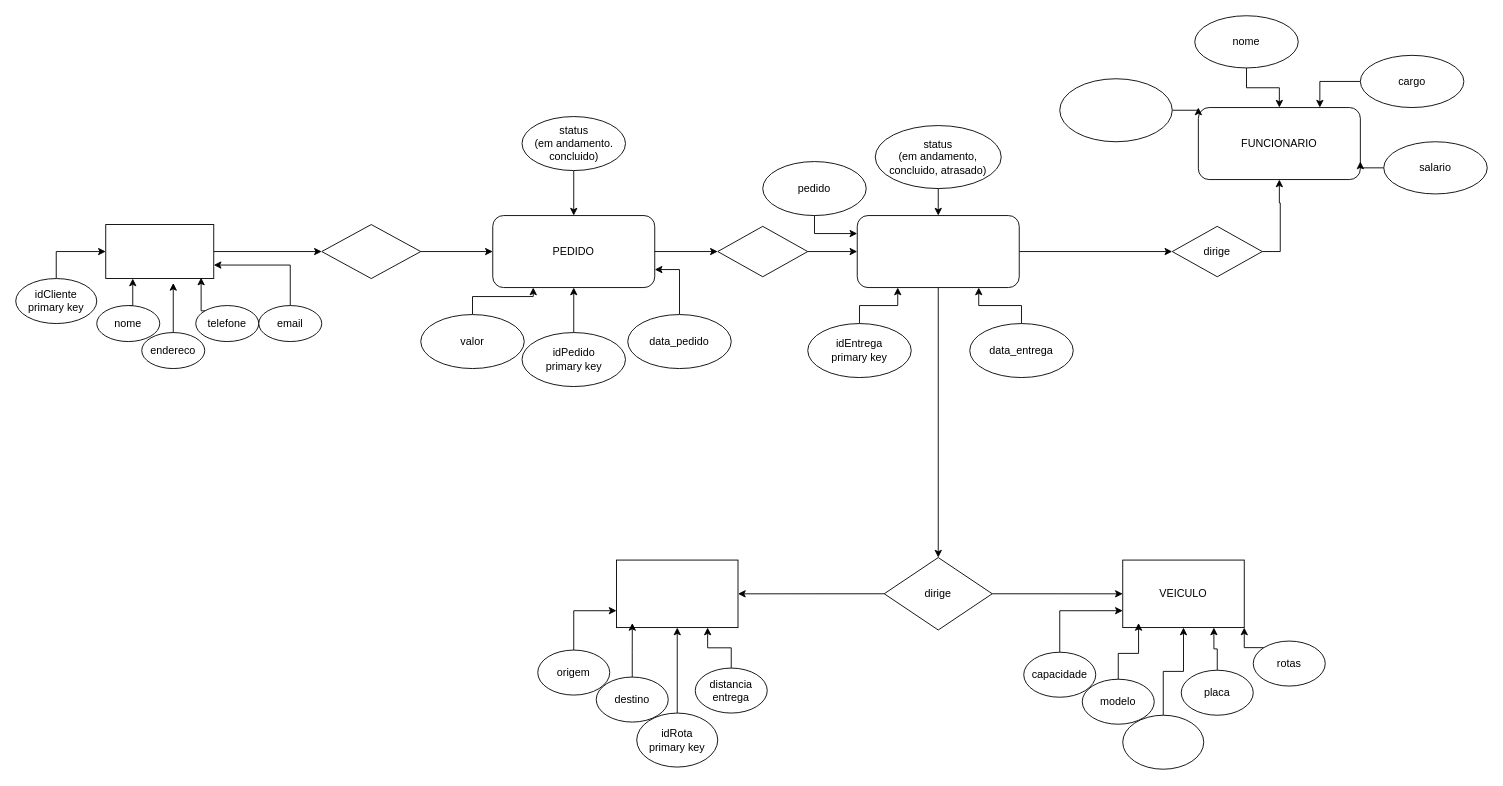
Image size: 1503x786. Some labels were removed from this diagram. The centre of each missing label's shape, as x and y in pixels:
CLIENTE: point 159,251
efetua: point 371,251
ENTREGA: point 937,251
idFuncionario primary key: point 1115,110
idVeiculo primary key: point 1163,741
possui: point 762,251
ROTA: point 677,593
